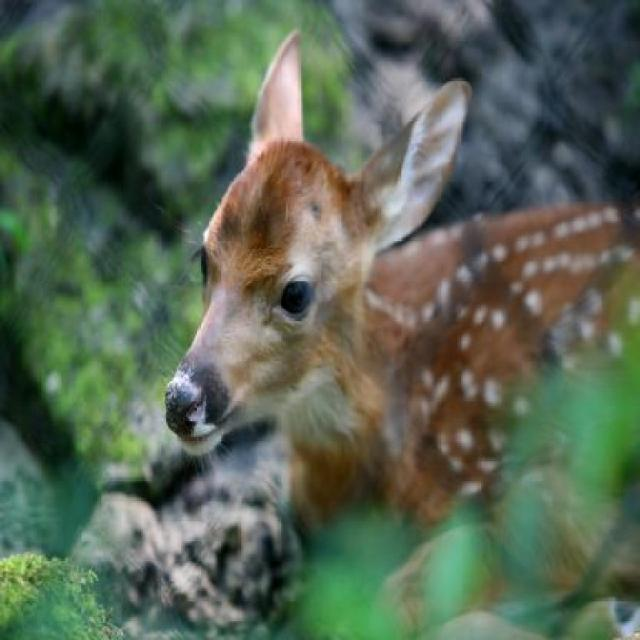Deer: (164, 32, 638, 637)
